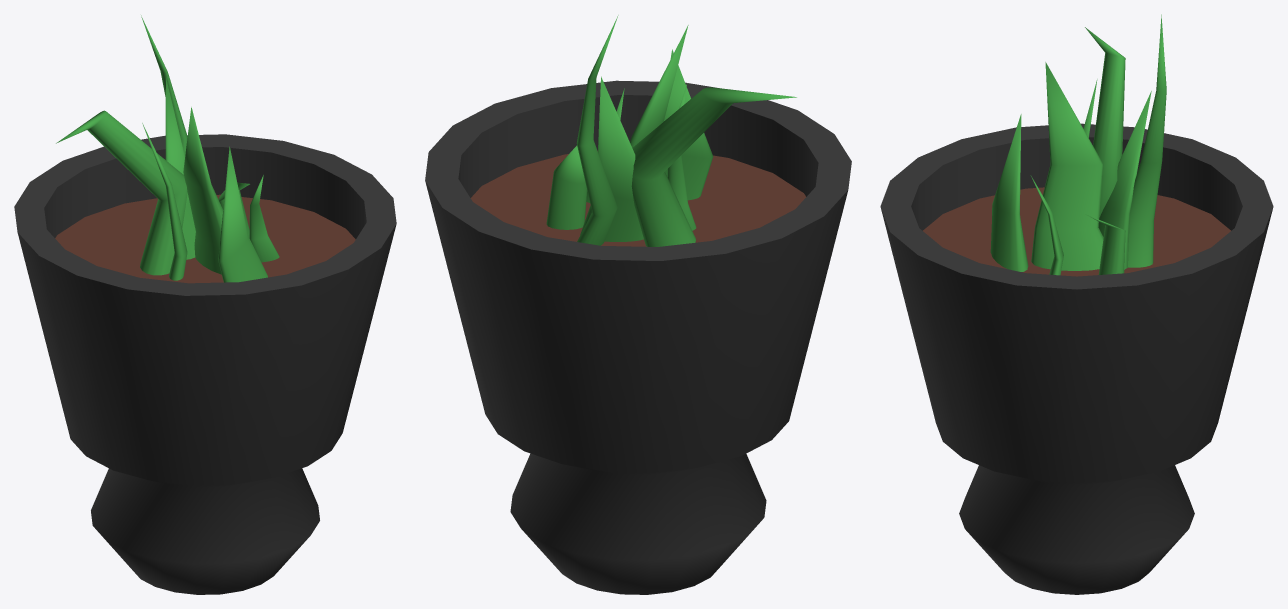
Rendered from plant.fbx.
The picture shows the model from 3 angles, left to right: view 1: azimuth 30°, elevation 25°; view 2: azimuth 150°, elevation 25°; view 3: azimuth 270°, elevation 25°; orthographic projection. The views are drawn at different scales.
Visible parts, largest first — view 1: pCylinder1, pasted__pasted__pasted__pCone2; view 2: pCylinder1, pasted__pasted__pasted__pCone2; view 3: pCylinder1, pasted__pasted__pasted__pCone2.
Boxes of the visible parts, x1,y1,x2,y2 form: pCylinder1: [14, 134, 396, 594]; pasted__pasted__pasted__pCone2: [56, 15, 279, 282]; pCylinder1: [425, 80, 851, 594]; pasted__pasted__pasted__pCone2: [546, 15, 796, 246]; pCylinder1: [880, 123, 1273, 594]; pasted__pasted__pasted__pCone2: [990, 14, 1166, 275].
Size of the model in its own units: 4.93 by 7.43 by 4.93.
